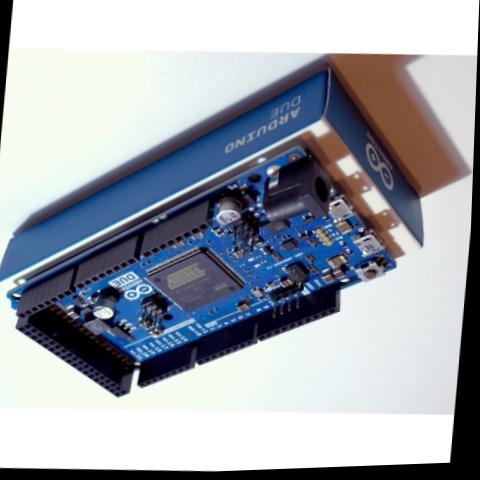Arduino-Due: (0, 126, 411, 420)
